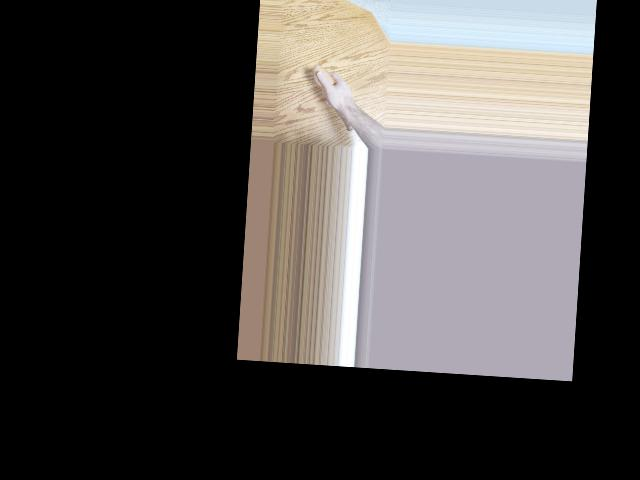sweet_potato: (307, 63, 356, 132)
